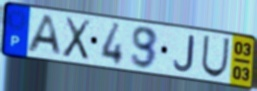4: (99, 21, 126, 67)
9: (129, 25, 161, 71)
A: (24, 13, 64, 58)
J: (172, 34, 195, 74)
U: (200, 34, 232, 79)
X: (61, 15, 93, 62)
